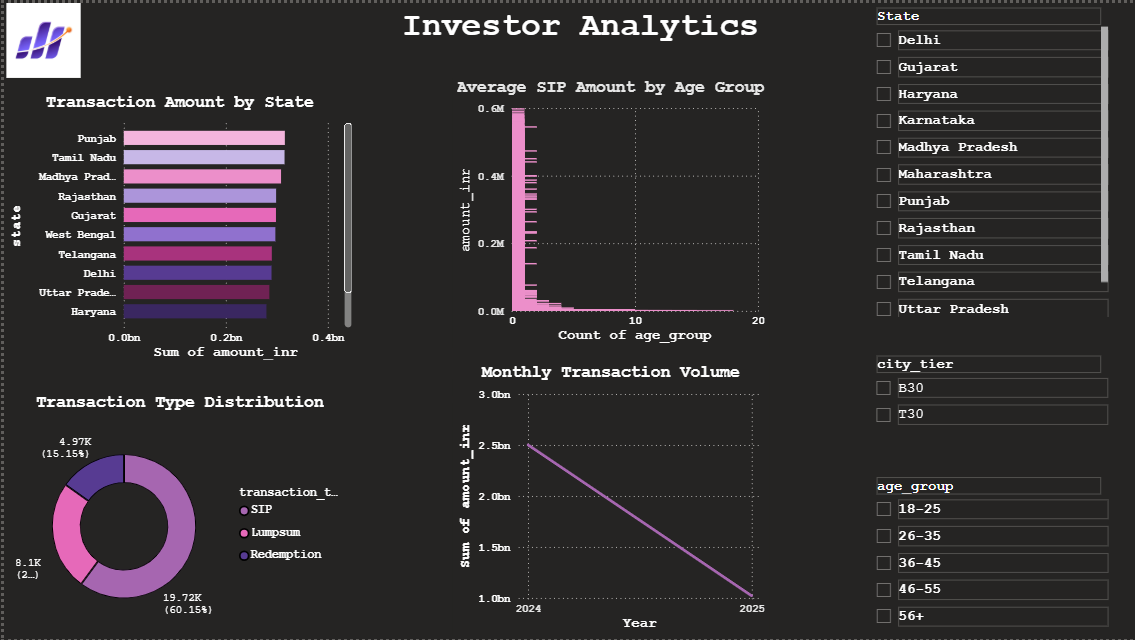

Layout of this report page (visuals, bound fields, positions):
{"tool":"powerbi","page":{"name":"Investor Analytics","canvas":[1280,720],"ordinal":2},"visuals":[{"type":"clusteredBarChart","title":"Transaction Amount by State","fields":{"Category":["08_investor_transactions_clean.state"],"Y":["Sum(08_investor_transactions_clean.amount_inr)"]},"box":[0,101,397.6,306.4],"z":0},{"type":"donutChart","title":"Transaction Type Distribution","fields":{"Category":["08_investor_transactions_clean.transaction_type"],"Y":["CountNonNull(08_investor_transactions_clean.transaction_type)"]},"box":[0,440.6,397.6,279.9],"z":1000},{"type":"clusteredBarChart","title":"Average SIP Amount by Age Group","fields":{"Y":["CountNonNull(08_investor_transactions_clean.age_group)"],"Category":["08_investor_transactions_clean.amount_inr"]},"box":[506.9,84.5,357.8,304.8],"z":2000},{"type":"lineChart","title":"Monthly Transaction Volume","fields":{"Category":["08_investor_transactions_clean.transaction_date.Variation.Date Hierarchy.Year","08_investor_transactions_clean.transaction_date.Variation.Date Hierarchy.Quarter","08_investor_transactions_clean.transaction_date.Variation.Date Hierarchy.Month","08_investor_transactions_clean.transaction_date.Variation.Date Hierarchy.Day"],"Y":["Sum(08_investor_transactions_clean.amount_inr)"]},"box":[506.9,407.5,357.8,308.1],"z":3000},{"type":"slicer","fields":{"Values":["08_investor_transactions_clean.state"]},"box":[972.4,0,279.9,359.5],"z":4000},{"type":"slicer","fields":{"Values":["08_investor_transactions_clean.age_group"]},"box":[972.4,530.1,279.9,185.5],"z":5000},{"type":"slicer","fields":{"Values":["08_investor_transactions_clean.city_tier"]},"box":[972.4,392.6,279.9,94.4],"z":6000},{"type":"textbox","box":[420.7,0,462.2,59.6],"z":7000},{"type":"image","box":[0,0,89.4,84.5],"z":8000}]}

Visuals, with their boxes in screenshot pixels (x1, y1, x2, y2), scaled from the page's 1280x720 canvas onto the 1135x640 screenshot:
"Transaction Amount by State" clusteredBarChart: {"left": 0, "top": 90, "right": 353, "bottom": 362}
"Transaction Type Distribution" donutChart: {"left": 0, "top": 392, "right": 353, "bottom": 639}
"Average SIP Amount by Age Group" clusteredBarChart: {"left": 449, "top": 75, "right": 767, "bottom": 346}
"Monthly Transaction Volume" lineChart: {"left": 449, "top": 362, "right": 767, "bottom": 636}
slicer - 08_investor_transactions_clean.state: {"left": 862, "top": 0, "right": 1110, "bottom": 320}
slicer - 08_investor_transactions_clean.age_group: {"left": 862, "top": 471, "right": 1110, "bottom": 636}
slicer - 08_investor_transactions_clean.city_tier: {"left": 862, "top": 349, "right": 1110, "bottom": 433}
textbox: {"left": 373, "top": 0, "right": 783, "bottom": 53}
image: {"left": 0, "top": 0, "right": 79, "bottom": 75}
